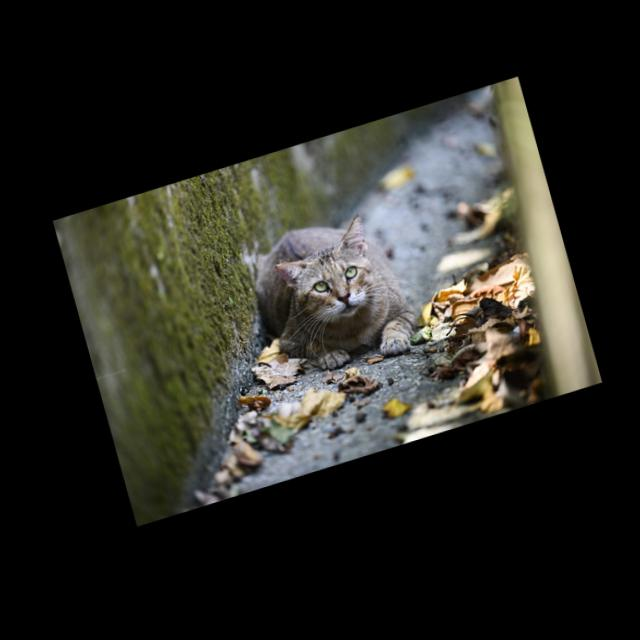animals: (241, 203, 427, 395)
